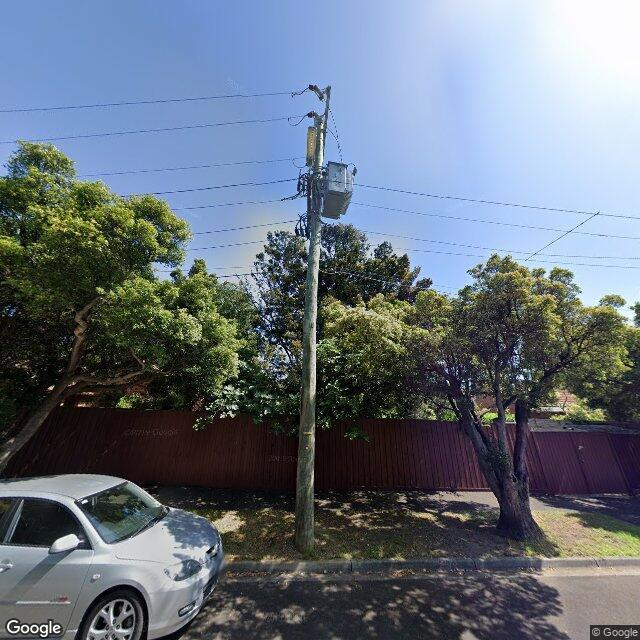HV-transmission: (288, 85, 324, 126)
crossarm: (323, 85, 331, 158)
streetlight: (306, 127, 316, 211)
timber-pole: (295, 116, 324, 554)
transformer: (321, 161, 356, 220)
